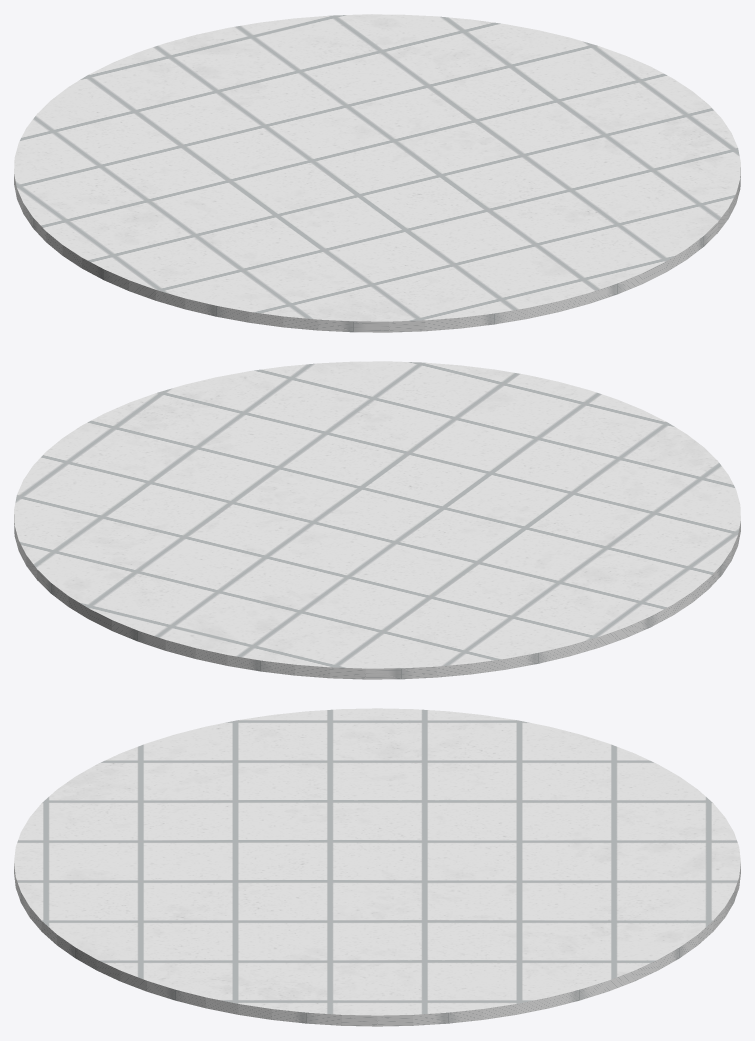
The model's file is ceiling.fbx.
The picture shows the model from 3 angles, top to bottom: view 1: azimuth 30°, elevation 25°; view 2: azimuth 150°, elevation 25°; view 3: azimuth 270°, elevation 25°; orthographic projection.
Parts seen in each view (by area): view 1: Cylinder.004; view 2: Cylinder.004; view 3: Cylinder.004.
Part boxes in pixels (bbox=[...]): Cylinder.004: bbox=[14, 14, 740, 332]; Cylinder.004: bbox=[14, 361, 740, 679]; Cylinder.004: bbox=[14, 708, 740, 1026].
Bounding box in the file's own units: 3000 × 90.5 × 3000.
Materials: 1 (1 with a texture image).
